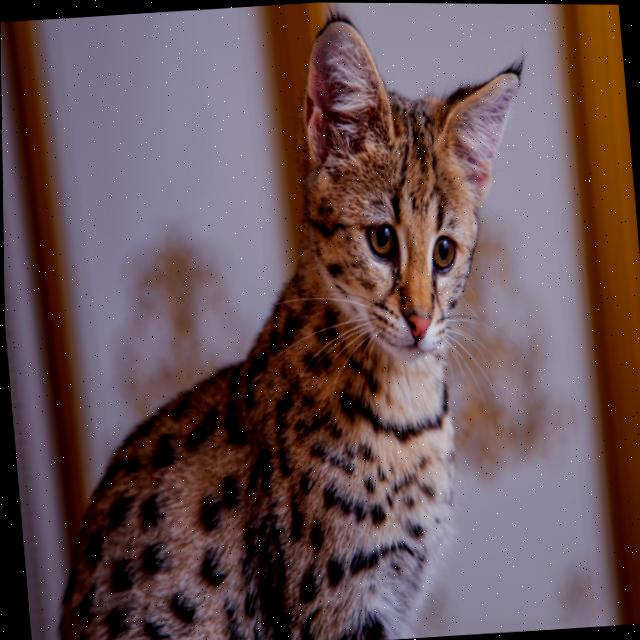Savannah: (0, 0, 567, 640)
